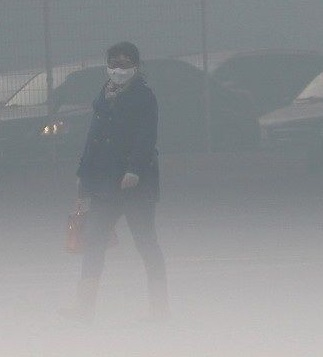person: (64, 40, 175, 321)
